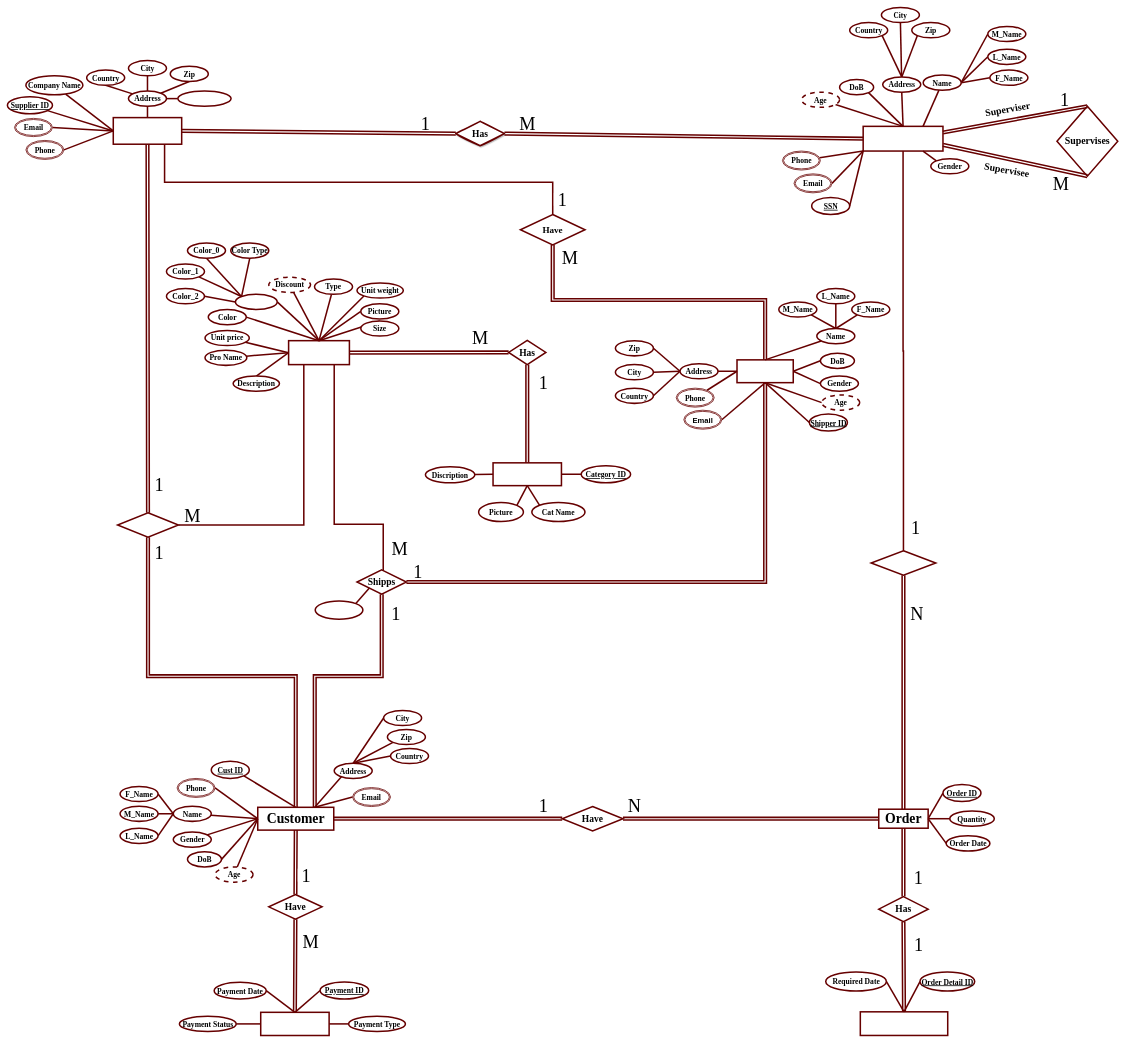
This 1125x1043 diagram has some shape labels left out. The centre of each missing label's shape, as x and y in pixels:
Category: (x=527, y=474)
Employee: (x=903, y=138)
Order Detail: (x=903, y=1023)
Payment: (x=295, y=1023)
Postal Code: (x=204, y=98)
Pro ID: (x=256, y=301)
Process: (x=903, y=563)
Product: (x=319, y=352)
Ship Date: (x=338, y=610)
Shipper: (x=765, y=371)
Supplier: (x=147, y=131)
Supply: (x=148, y=525)
